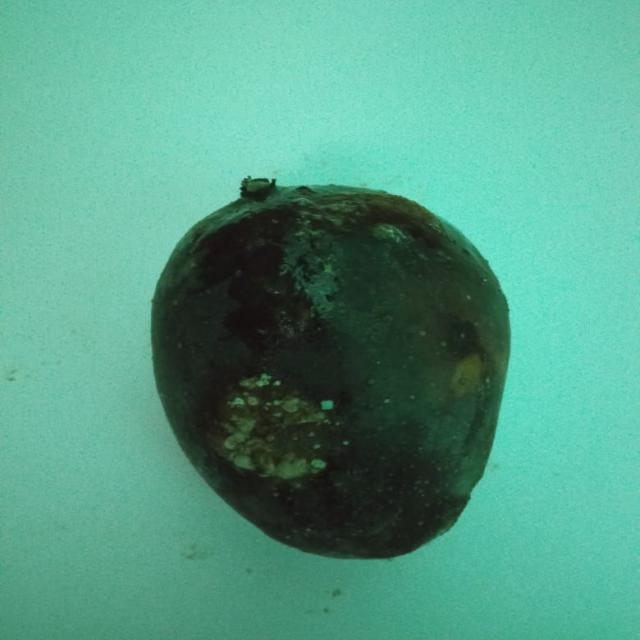rotten_mango: (146, 176, 514, 560)
